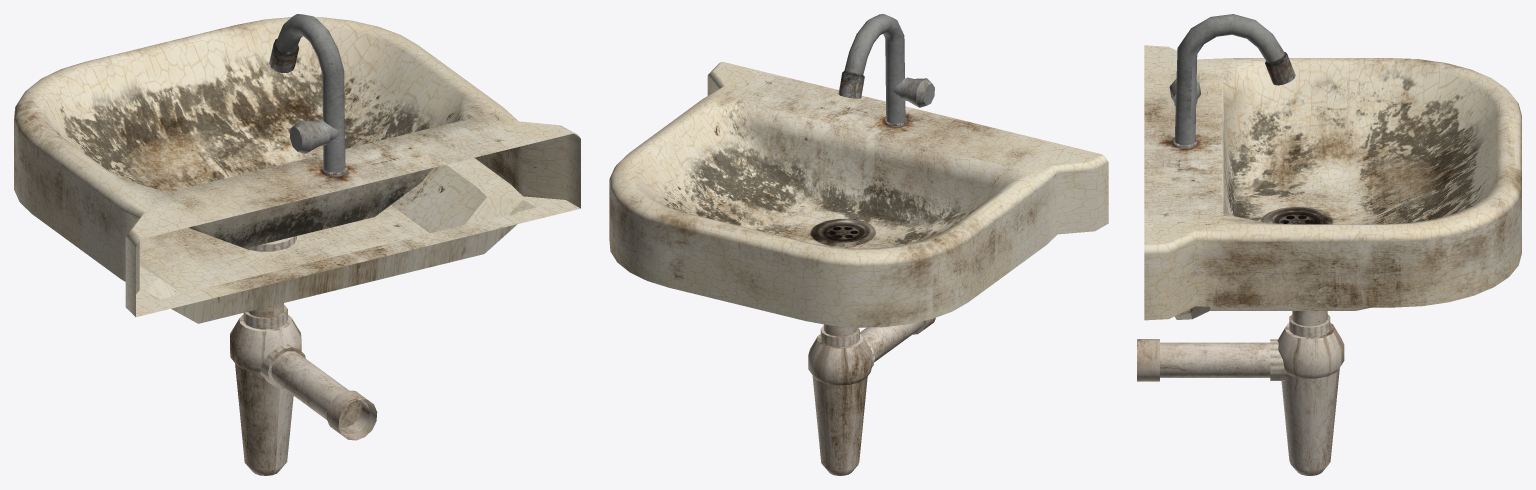
The model's file is Sink.fbx.
The picture shows the model from 3 angles, left to right: view 1: azimuth 30°, elevation 25°; view 2: azimuth 150°, elevation 25°; view 3: azimuth 270°, elevation 25°; orthographic projection. The views are drawn at different scales.
Visible parts, largest first — view 1: Sink; view 2: Sink; view 3: Sink.
Boxes of the visible parts, x1,y1,x2,y2 form: Sink: (14,14,580,475); Sink: (609,14,1108,475); Sink: (1137,14,1521,475).
Bounding box in the file's own units: 0.7518 × 0.7794 × 0.595.
